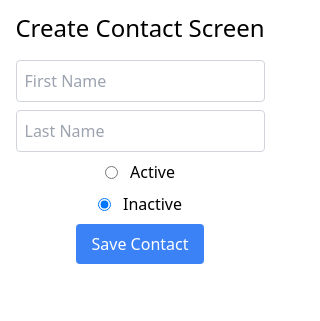
Test case: displays error messages when submitting with empty fields
Click the button "Save Contact". click: x=140, y=244
box: x1=76 y1=224 x2=204 y2=264
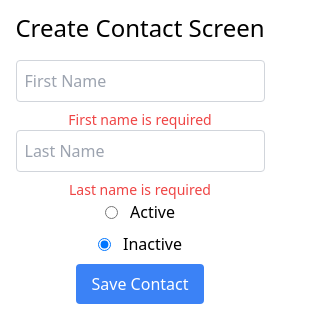
expect the text "First name is required" is shown: met, box x1=68 y1=110 x2=212 y2=130
expect the text "Last name is required" is shown: met, box x1=69 y1=180 x2=211 y2=200
